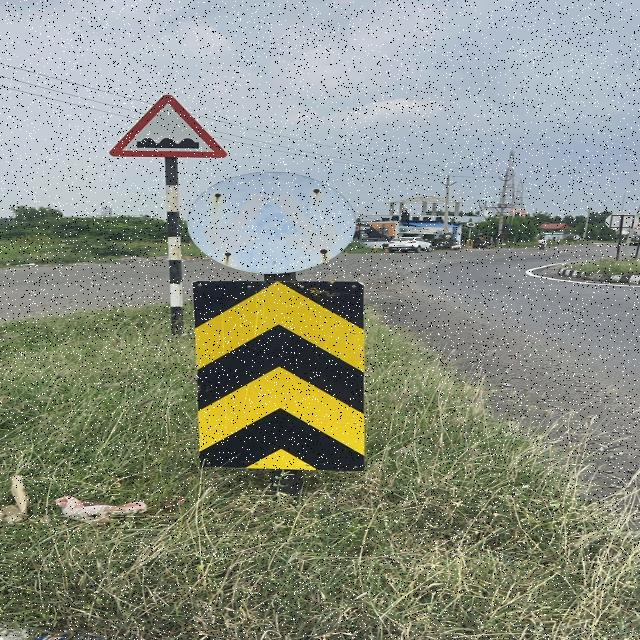Rumble_strip: (113, 97, 230, 160)
